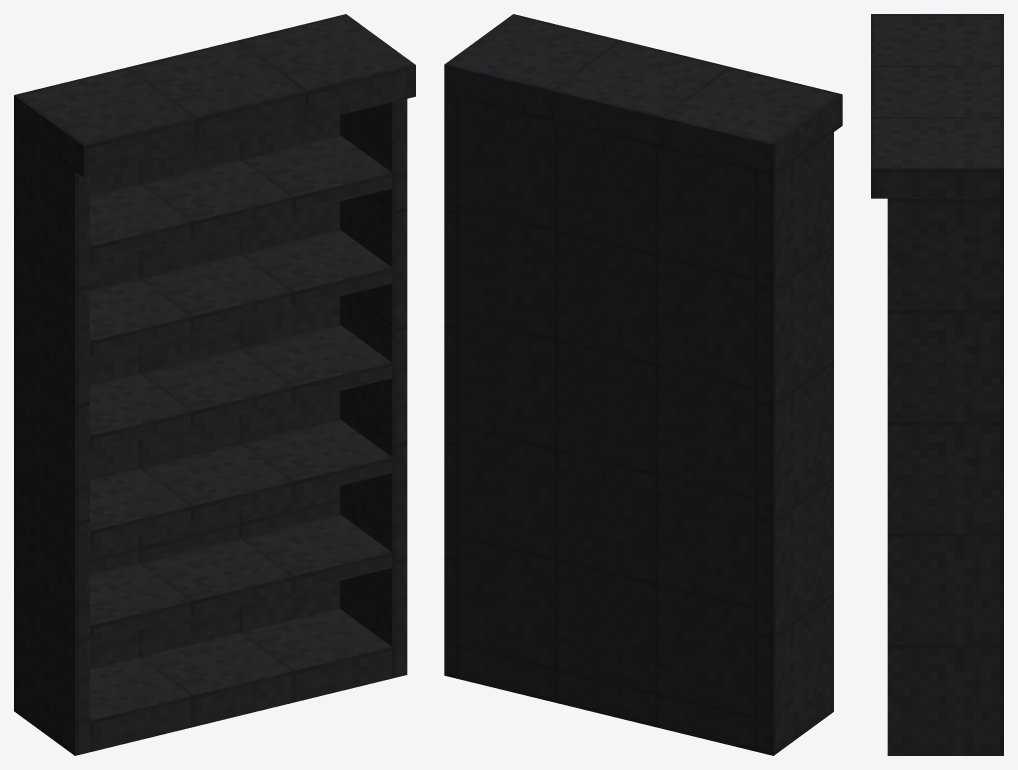
File: gothicBookcase_2.glb
3 renders of one model, left to right at view 1: azimuth 30°, elevation 25°; view 2: azimuth 150°, elevation 25°; view 3: azimuth 270°, elevation 25°, orthographic. The views are drawn at different scales.
Parts seen in each view (by area): view 1: gothicBookcase_2; view 2: gothicBookcase_2; view 3: gothicBookcase_2.
Part boxes in pixels (x1,y1,x2,y2): gothicBookcase_2: (14, 14, 415, 755); gothicBookcase_2: (444, 14, 842, 755); gothicBookcase_2: (871, 14, 1003, 755).
Size of the model in its own units: 1.38 by 2.44 by 0.5.
Materials: 1 (1 with a texture image).
